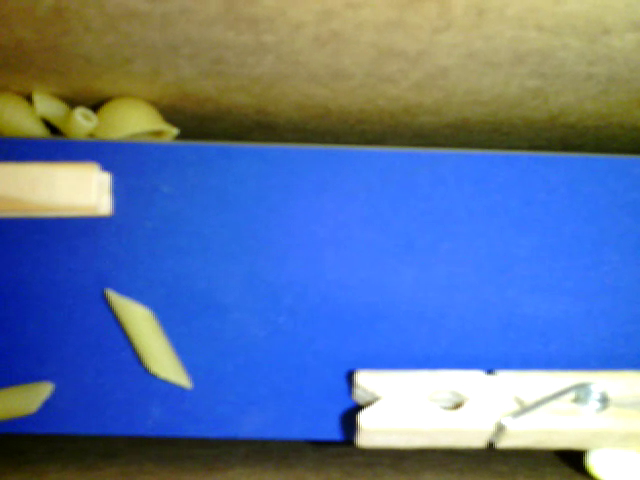elbow: (25, 87, 100, 139)
penne: (102, 286, 194, 390), (1, 377, 58, 420)
shell: (90, 95, 182, 143), (1, 87, 54, 143)
